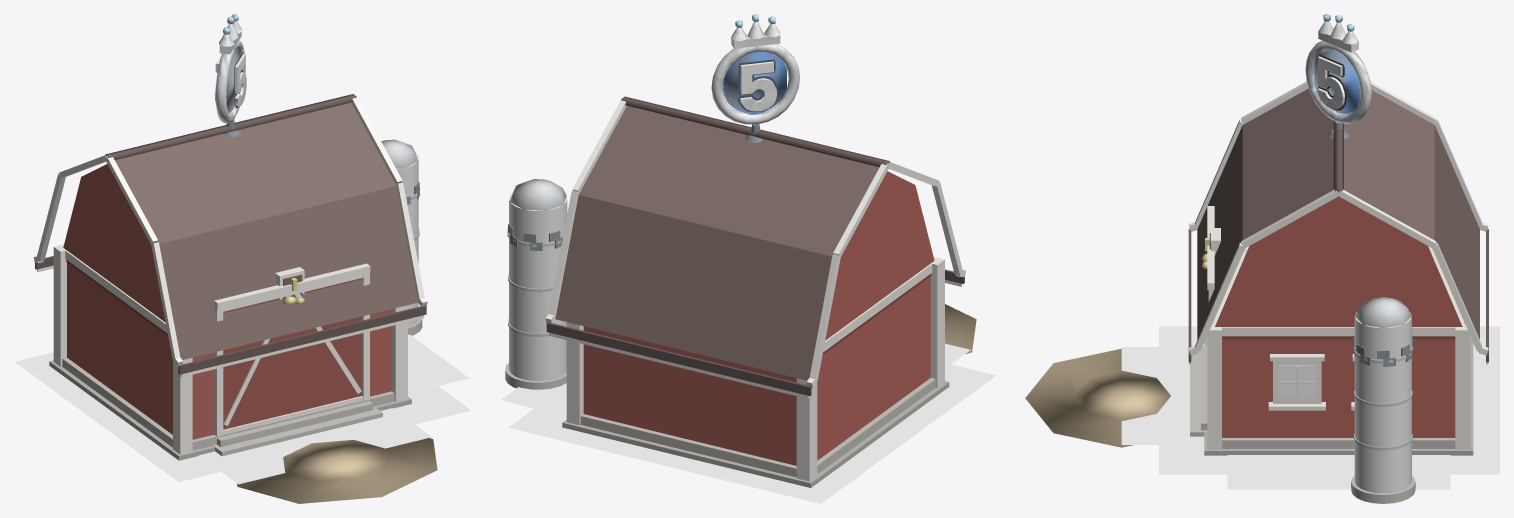
Rendered from barn_5.glb.
3 views of the same model, side by side, from view 1: azimuth 30°, elevation 25°; view 2: azimuth 150°, elevation 25°; view 3: azimuth 270°, elevation 25° (orthographic). The views are drawn at different scales.
Visible parts, largest first — view 1: body2, barn_5, spin_60_0, body; view 2: body2, barn_5, spin_60_0, body; view 3: body2, barn_5, spin_60_0, body.
Boxes of the visible parts, bbox=[...] form: body2: bbox=[34, 94, 437, 503]; barn_5: bbox=[14, 334, 470, 484]; spin_60_0: bbox=[214, 14, 246, 122]; body: bbox=[215, 14, 246, 123]; body2: bbox=[505, 96, 976, 487]; barn_5: bbox=[501, 343, 995, 503]; spin_60_0: bbox=[711, 14, 800, 124]; body: bbox=[713, 16, 798, 124]; body2: bbox=[1025, 81, 1488, 503]; barn_5: bbox=[1121, 326, 1499, 489]; spin_60_0: bbox=[1305, 14, 1371, 123]; body: bbox=[1305, 14, 1370, 123].
Size of the model in its own units: 3.33 by 3.41 by 3.8.
